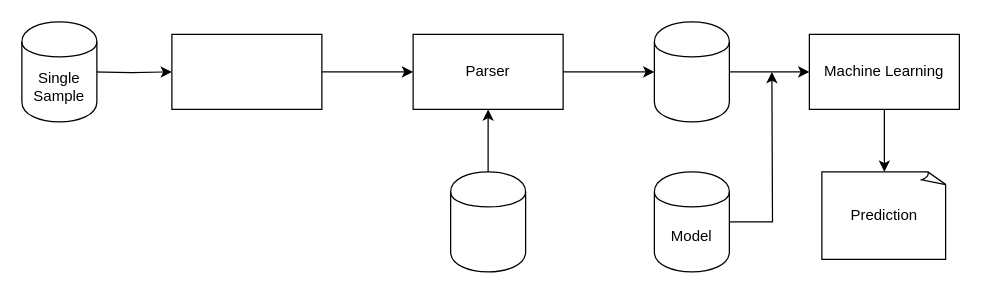
The diagram is 981 pixels wide and 294 high, and some of its shapes have lost their labels. The shapes that lost their labels are listed below. From the top down, each one's centre as x and y in pixels, then its label:
At point (246, 71): "Cuckoo (API)".
At point (691, 71): "API Results".
At point (487, 221): "Dataset".
